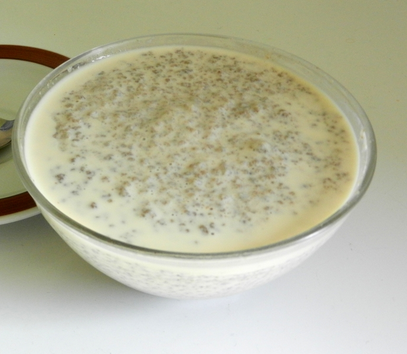lait +mil: (81, 57, 311, 217)
